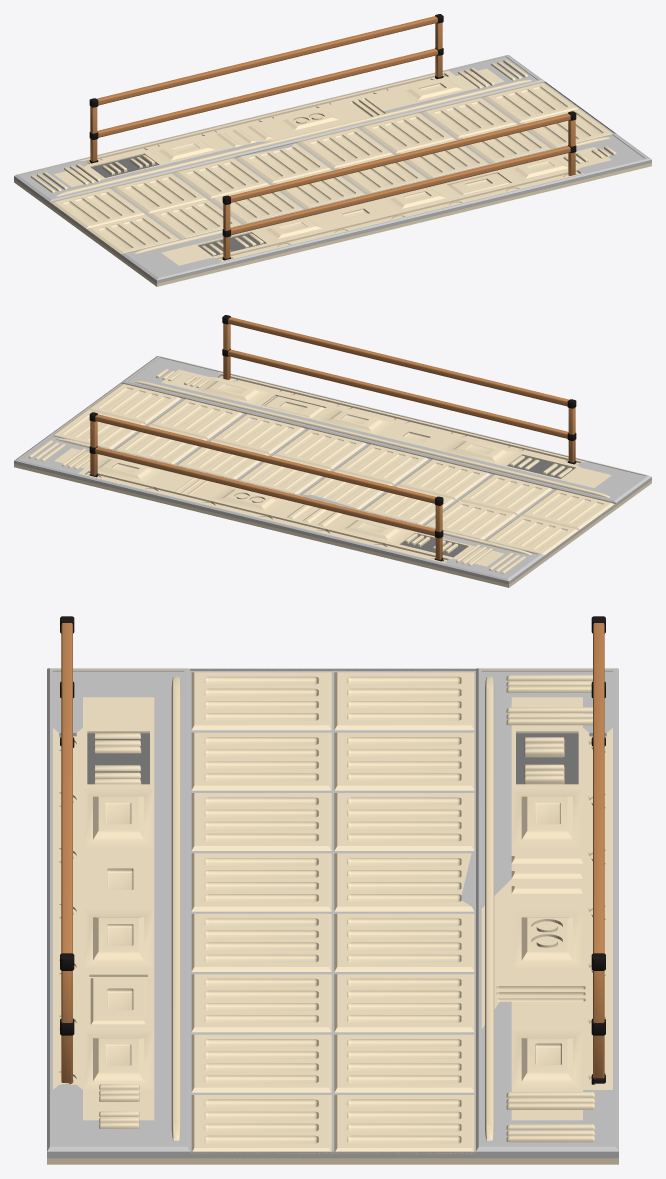
The model's file is PanelWalkway_FBX.fbx.
The picture shows the model from 3 angles, top to bottom: view 1: azimuth 30°, elevation 25°; view 2: azimuth 150°, elevation 25°; view 3: azimuth 270°, elevation 25°; orthographic projection. The views are drawn at different scales.
Visible parts, largest first — view 1: Panel01_2; view 2: Panel01_2; view 3: Panel01_2.
Boxes of the visible parts, x1=… form: Panel01_2: x1=14, y1=14, x2=651, y2=286; Panel01_2: x1=14, y1=315, x2=651, y2=587; Panel01_2: x1=47, y1=616, x2=618, y2=1164.
Bounding box in the file's own units: 597 × 84.02 × 299.
